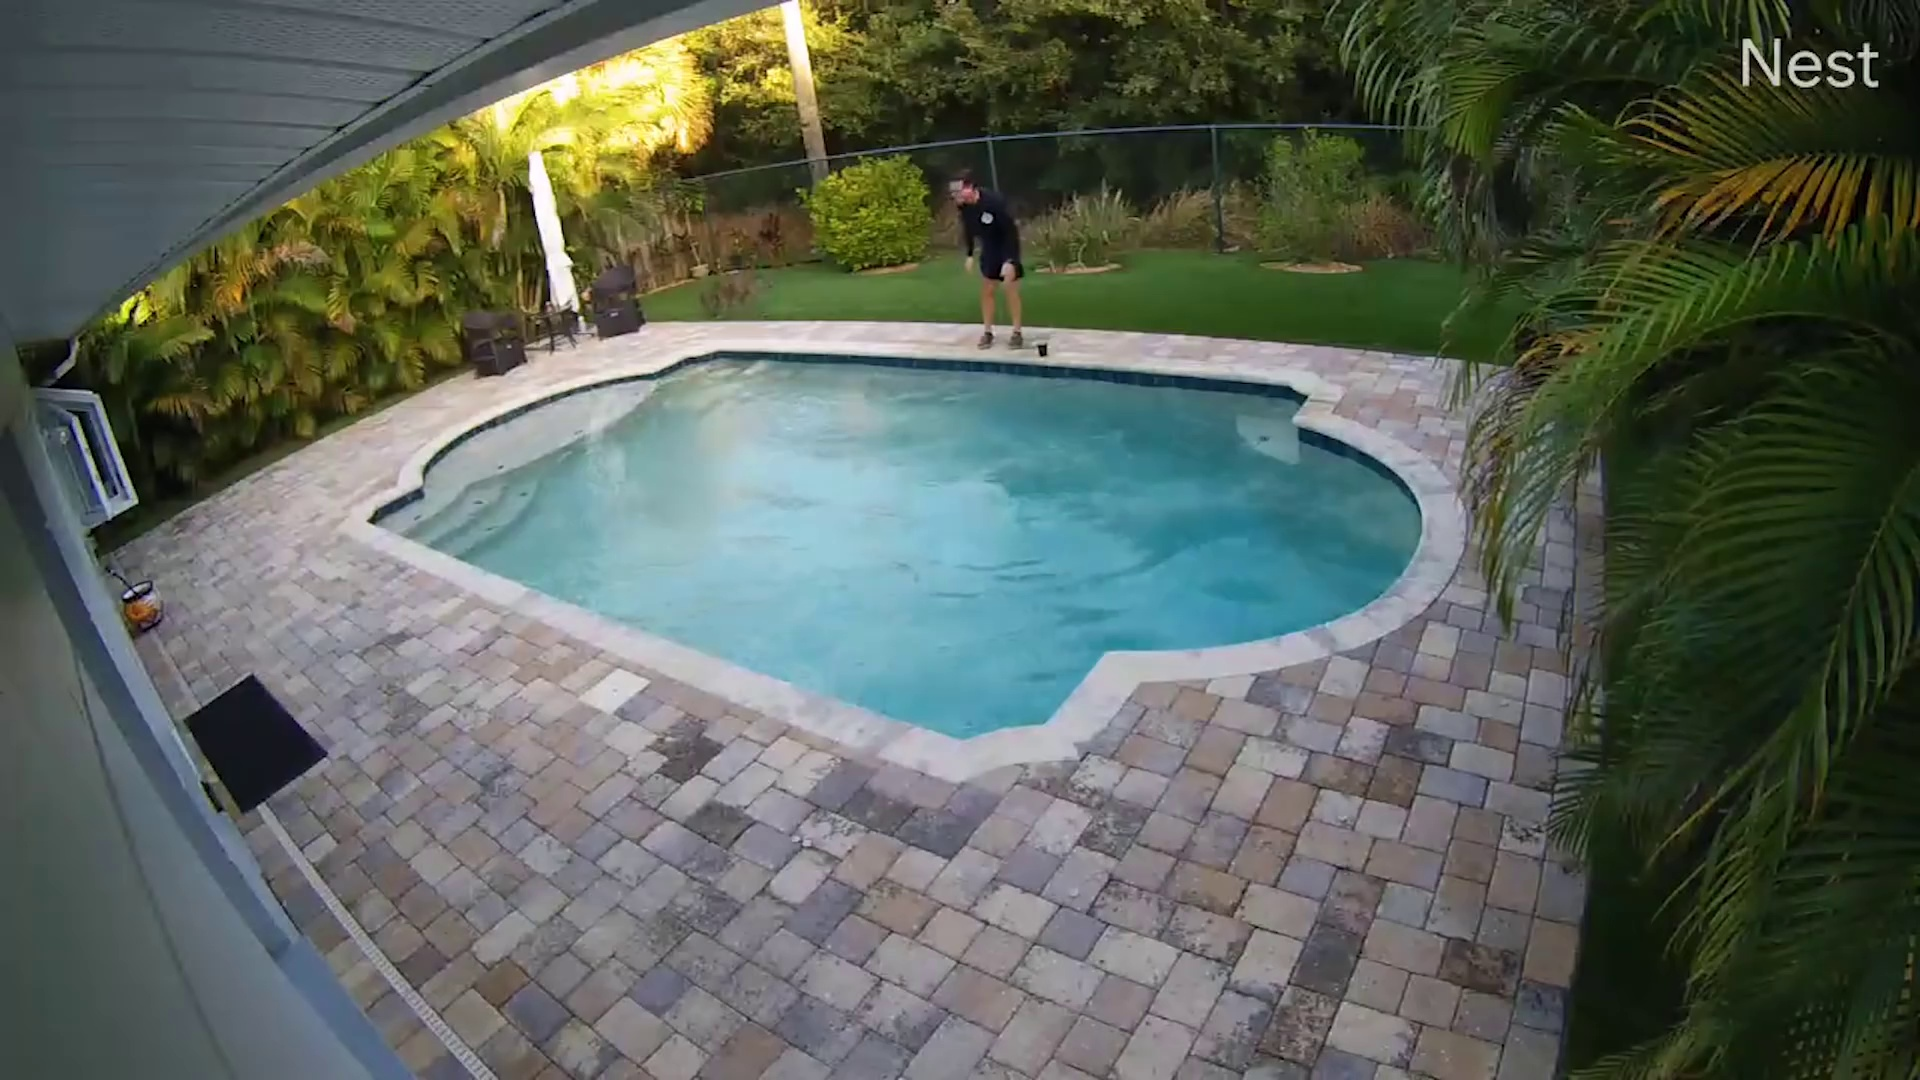face: (950, 179, 971, 207)
